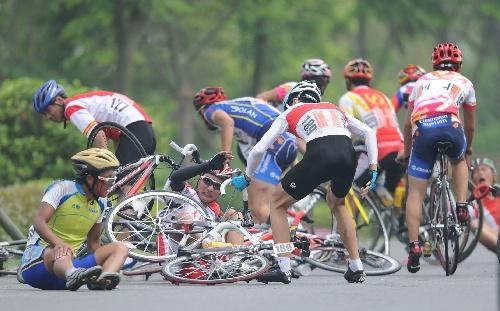falling: (147, 139, 254, 271)
